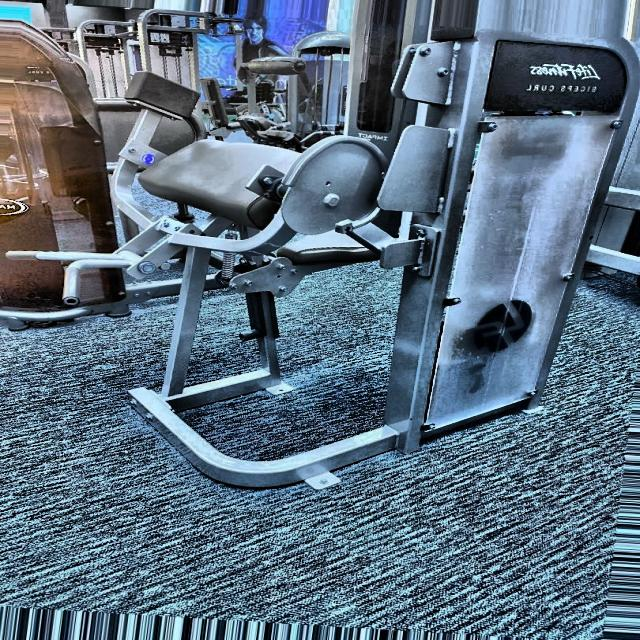bicep_curl_machine: (3, 6, 427, 503), (518, 80, 602, 98)
